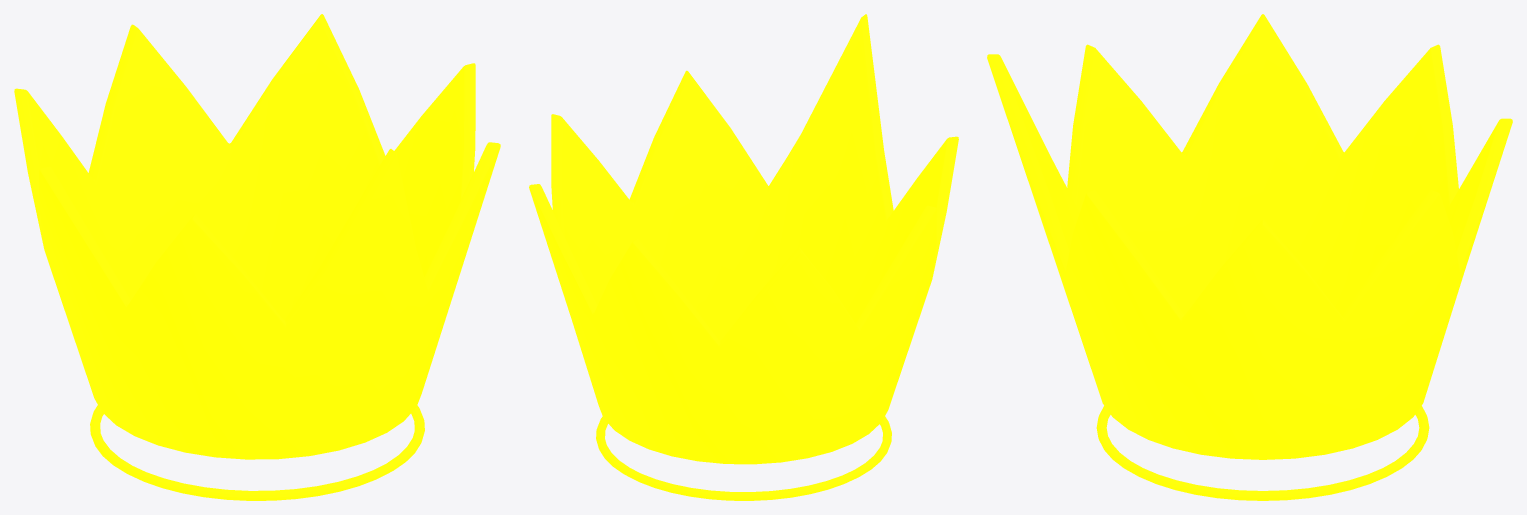
Rendered from crown.glb.
The picture shows the model from 3 angles, left to right: view 1: azimuth 30°, elevation 25°; view 2: azimuth 150°, elevation 25°; view 3: azimuth 270°, elevation 25°; orthographic projection. The views are drawn at different scales.
Visible parts, largest first — view 1: Crown; view 2: Crown; view 3: Crown.
Boxes of the visible parts, x1=… form: Crown: x1=14, y1=14, x2=500, y2=500; Crown: x1=529, y1=14, x2=958, y2=500; Crown: x1=987, y1=14, x2=1512, y2=500.
Bounding box in the file's own units: 24.78 × 20.67 × 26.07.
Materials: 1 (1 with a texture image).
